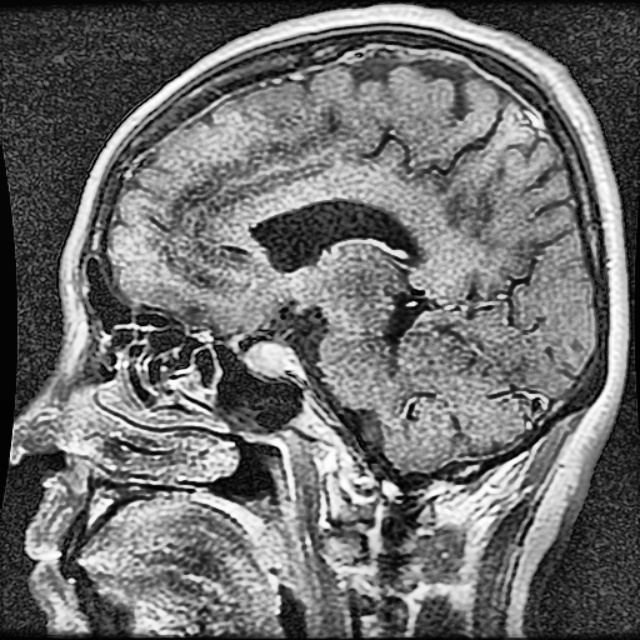Pituitary: (243, 340, 298, 377)
